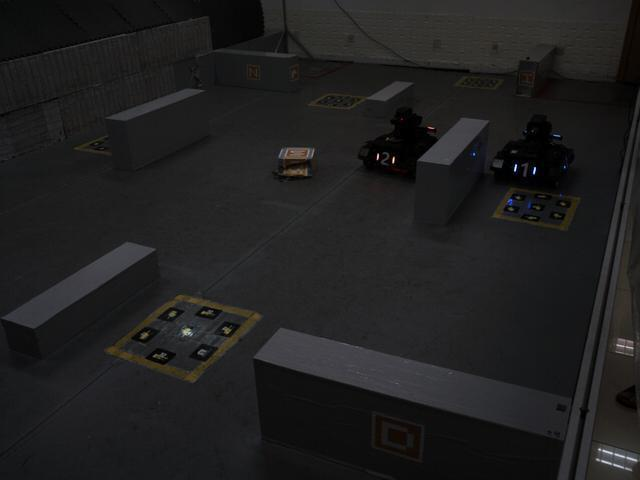armor: (510, 158, 539, 182), (371, 148, 398, 168)
